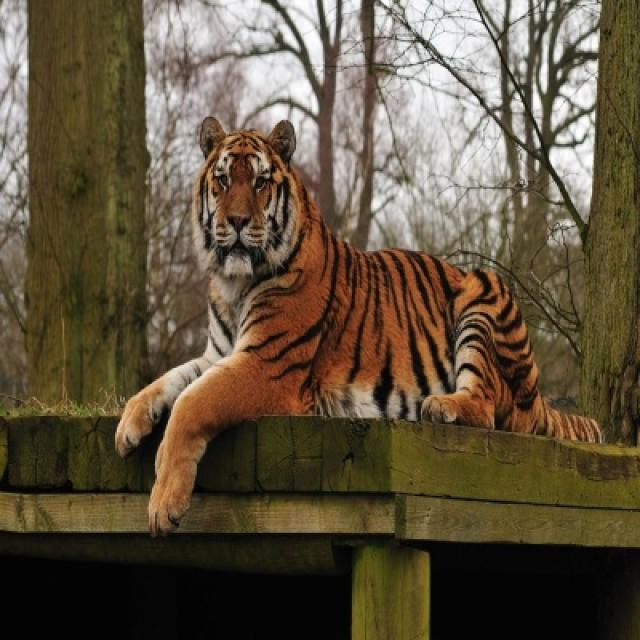Tiger: (115, 117, 602, 533)
